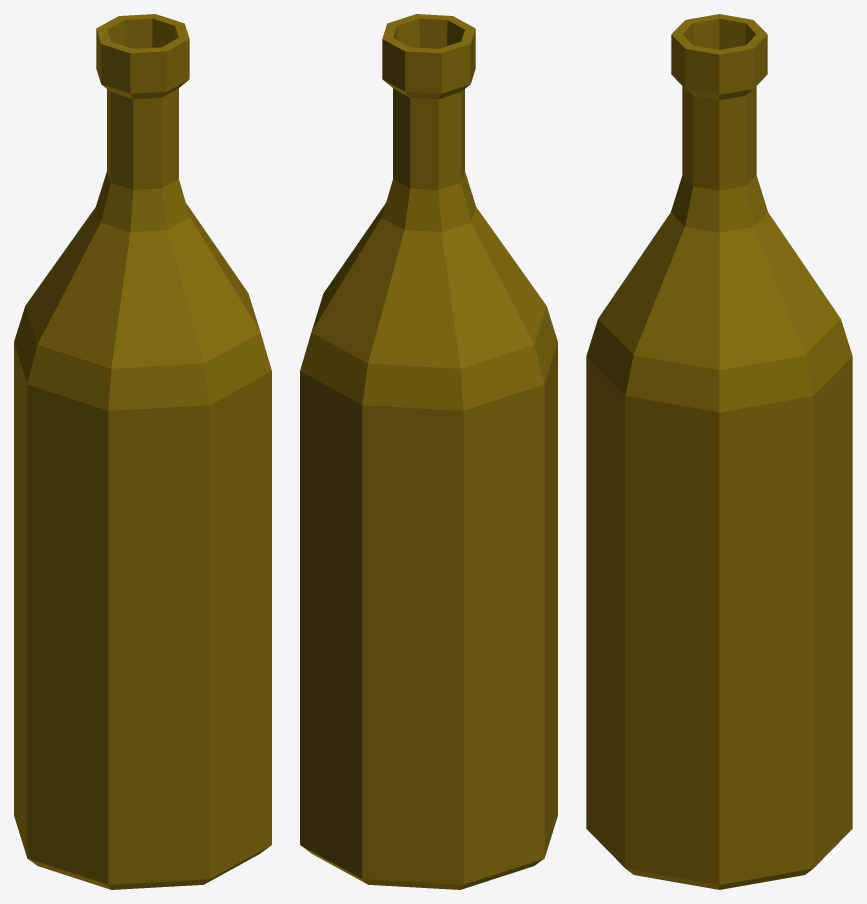
File: Alcohol002.FBX
The picture shows the model from 3 angles, left to right: view 1: azimuth 30°, elevation 25°; view 2: azimuth 150°, elevation 25°; view 3: azimuth 270°, elevation 25°; orthographic projection.
Parts seen in each view (by area): view 1: Vine; view 2: Vine; view 3: Vine.
Part boxes in pixels (left/top/right/bottom): Vine: left=14, top=14, right=271, bottom=889; Vine: left=300, top=14, right=557, bottom=889; Vine: left=586, top=14, right=852, bottom=889.
Size of the model in its own units: 0.12 by 0.4 by 0.12.
